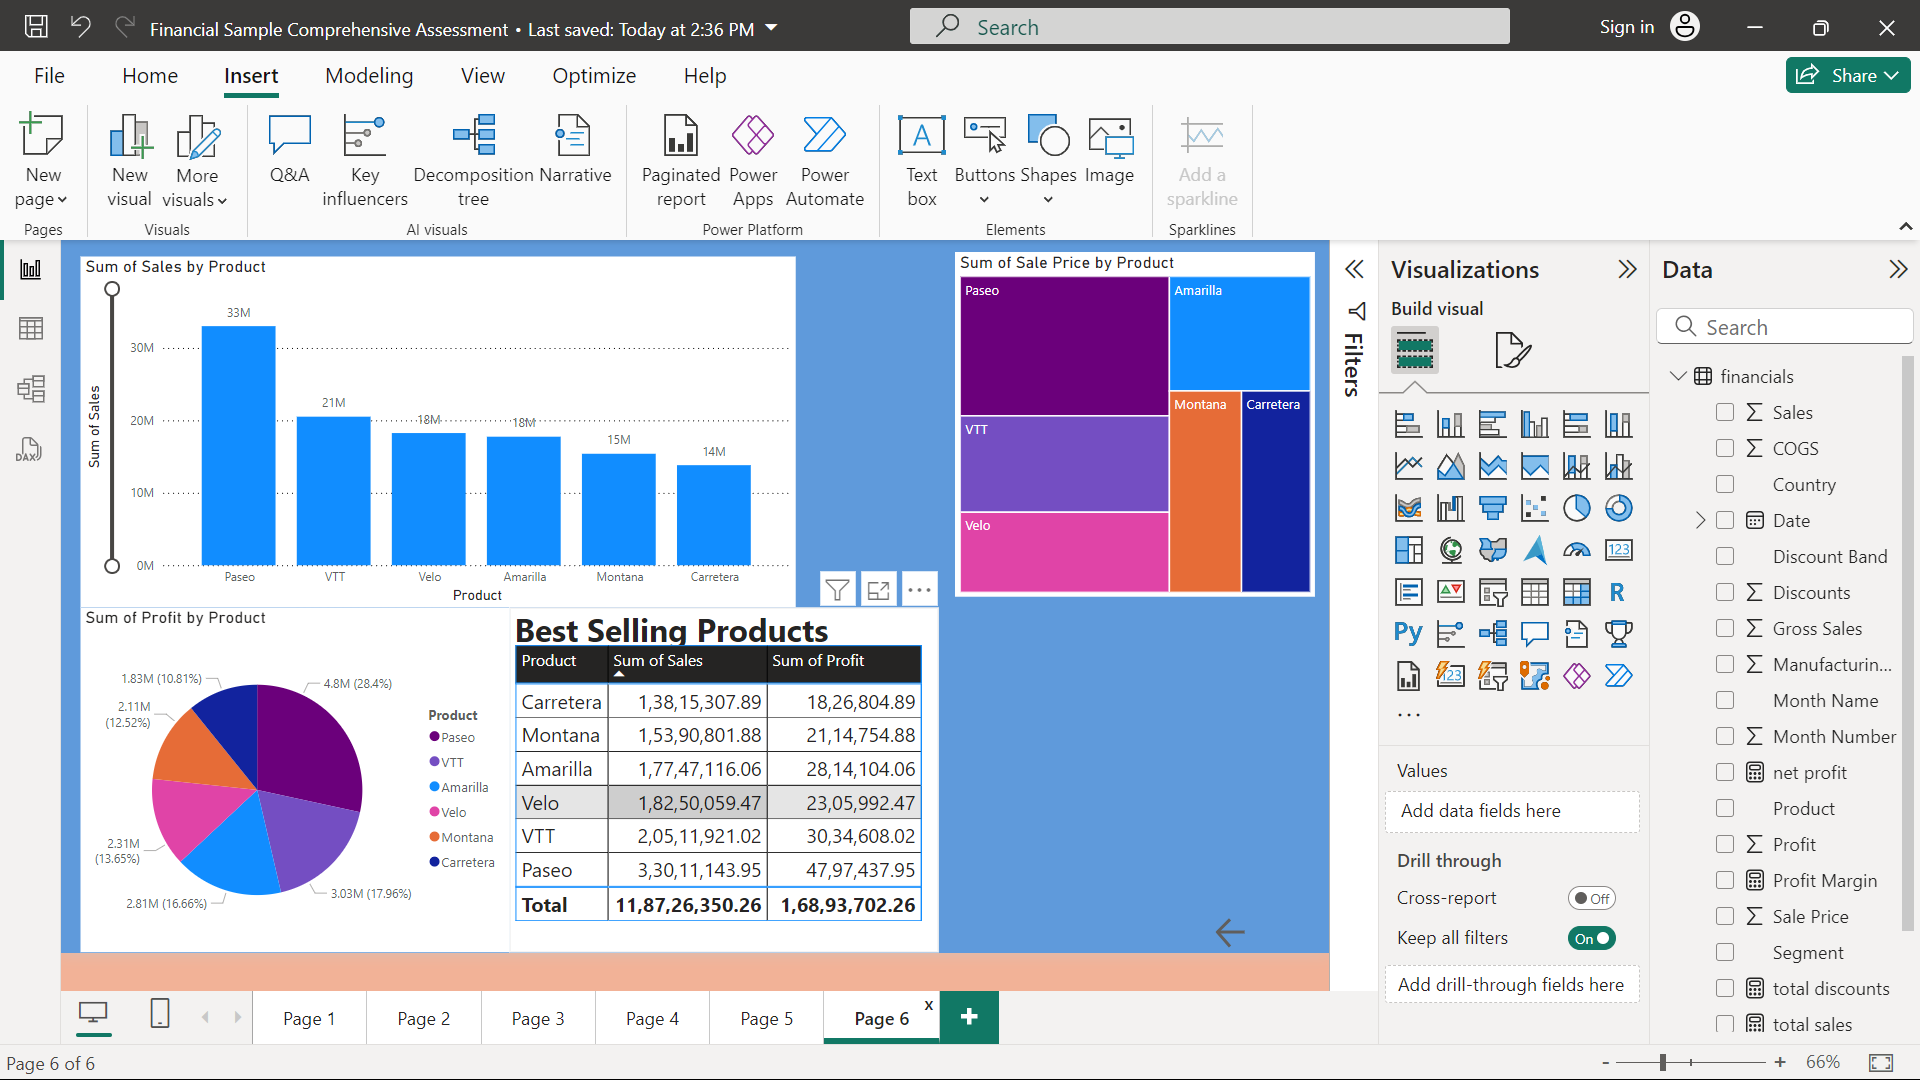

The page's visual inventory and layout, read from the dashboard file:
{"tool":"powerbi","page":{"name":"Page 6","canvas":[1280,720],"ordinal":5},"visuals":[{"type":"tableEx","title":"Best Selling Products","fields":{"Values":["financials.Product","Sum(financials. Sales)","Sum(financials.Profit)"]},"box":[452.7,371,433.1,348.3],"z":0},{"type":"clusteredColumnChart","fields":{"Category":["financials.Product"],"Y":["Sum(financials. Sales)"]},"box":[19.7,16.7,722.3,354.3],"z":1000},{"type":"pieChart","fields":{"Category":["financials.Product"],"Y":["Sum(financials.Profit)"]},"box":[19.7,371,433.1,348.3],"z":2000},{"type":"treemap","fields":{"Group":["financials.Product"],"Values":["Sum(financials.Sale Price)"]},"box":[902.5,12.1,363.4,348.3],"z":3000},{"type":"actionButton","box":[1161.4,679.9,62.1,39.4],"z":3001}]}

Visuals, with their boxes on the page's 1280x720 design canvas (x1, y1, x2, y2). These are canvas units, not pixel positions in the 1920x1080 screenshot, which may show the page scaled, cropped or inside an application window:
"Best Selling Products" tableEx: <bbox>453, 371, 886, 719</bbox>
clusteredColumnChart - financials.Product x Sum(financials. Sales): <bbox>20, 17, 742, 371</bbox>
pieChart - financials.Product x Sum(financials.Profit): <bbox>20, 371, 453, 719</bbox>
treemap - financials.Product x Sum(financials.Sale Price): <bbox>902, 12, 1266, 360</bbox>
actionButton: <bbox>1161, 680, 1224, 719</bbox>
